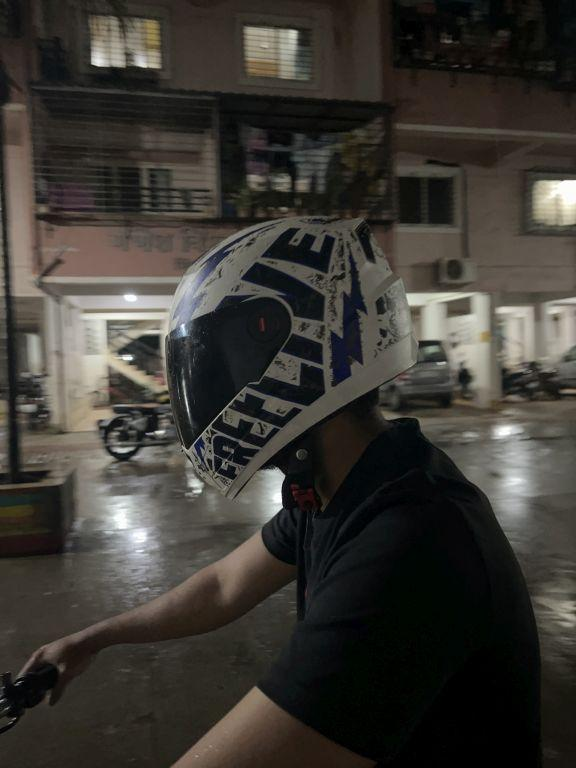helmet: (149, 189, 426, 505)
